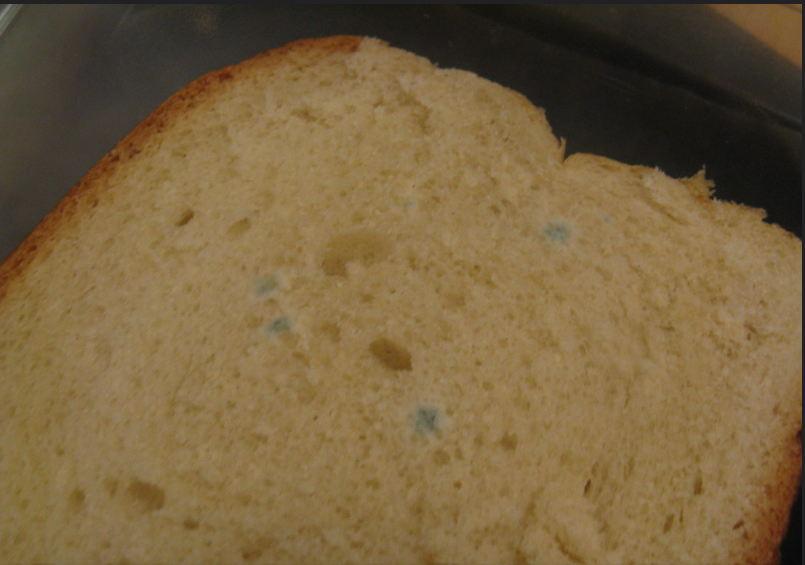mold_bread: (402, 397, 455, 440), (535, 215, 577, 250), (252, 271, 279, 303), (266, 313, 295, 339), (398, 195, 419, 215)
